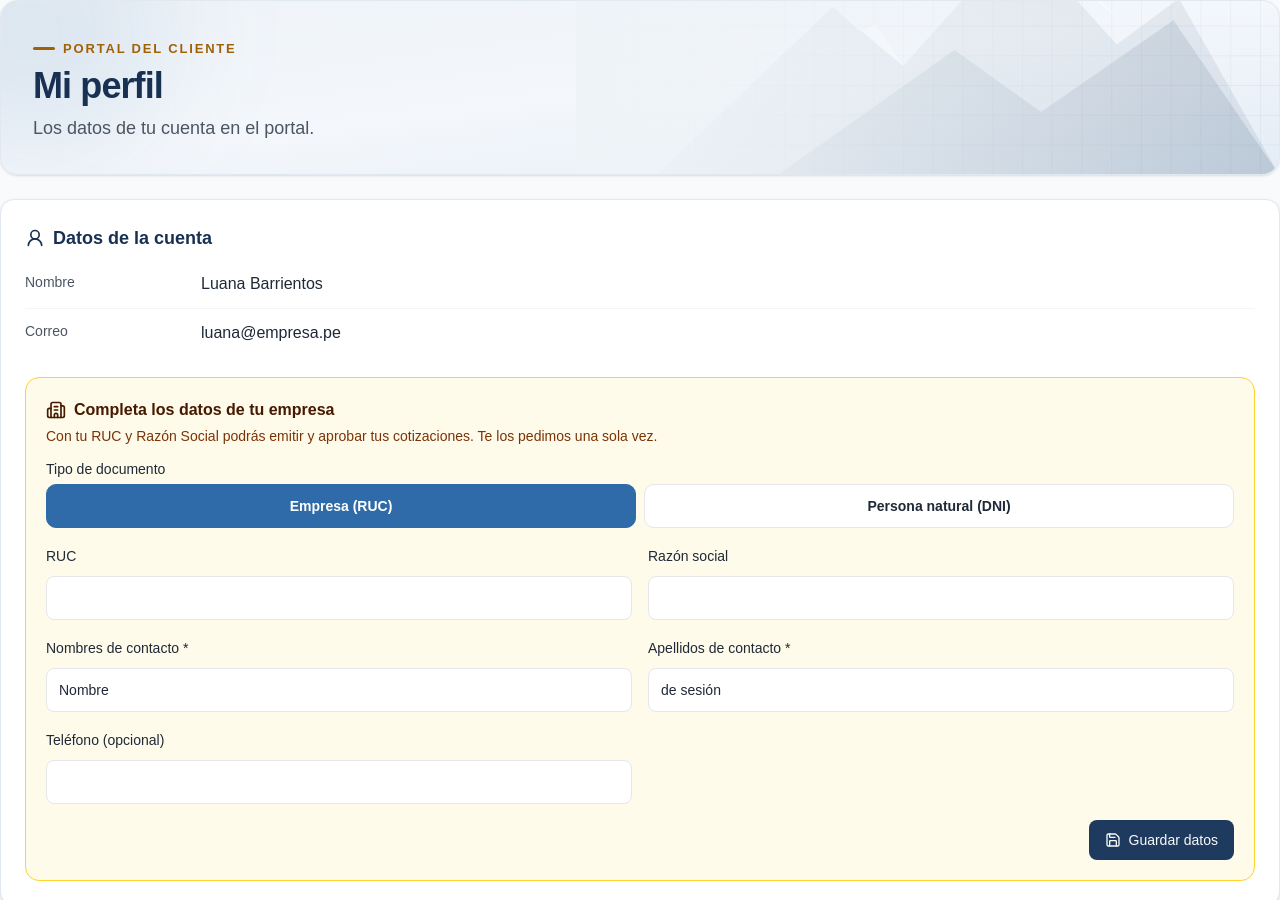
PerfilClientePage (/portal/perfil) › cuenta sin datos de empresa › guarda con el endpoint real, marca el perfil completo y vuelve a leer la cuenta
Expected: the element "Completa los datos de tu empresa" is shown, [25,377,1255,881]
Type "20123456789" into the field labelled "RUC" at (339,598), box [46,576,632,620]
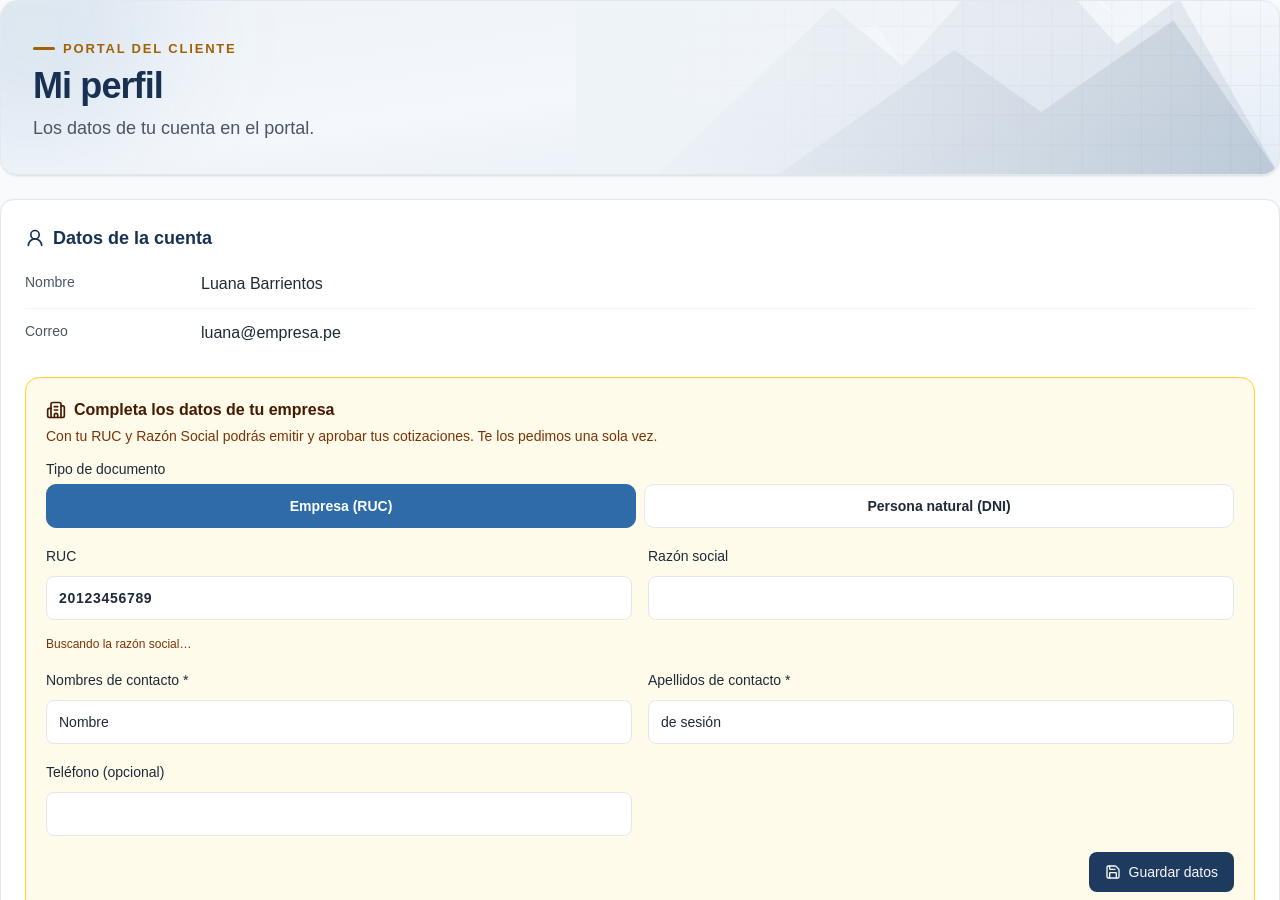
Type "Minera Sol S.A.C." into the field labelled "Razón social" at (941,598), box [648,576,1234,620]
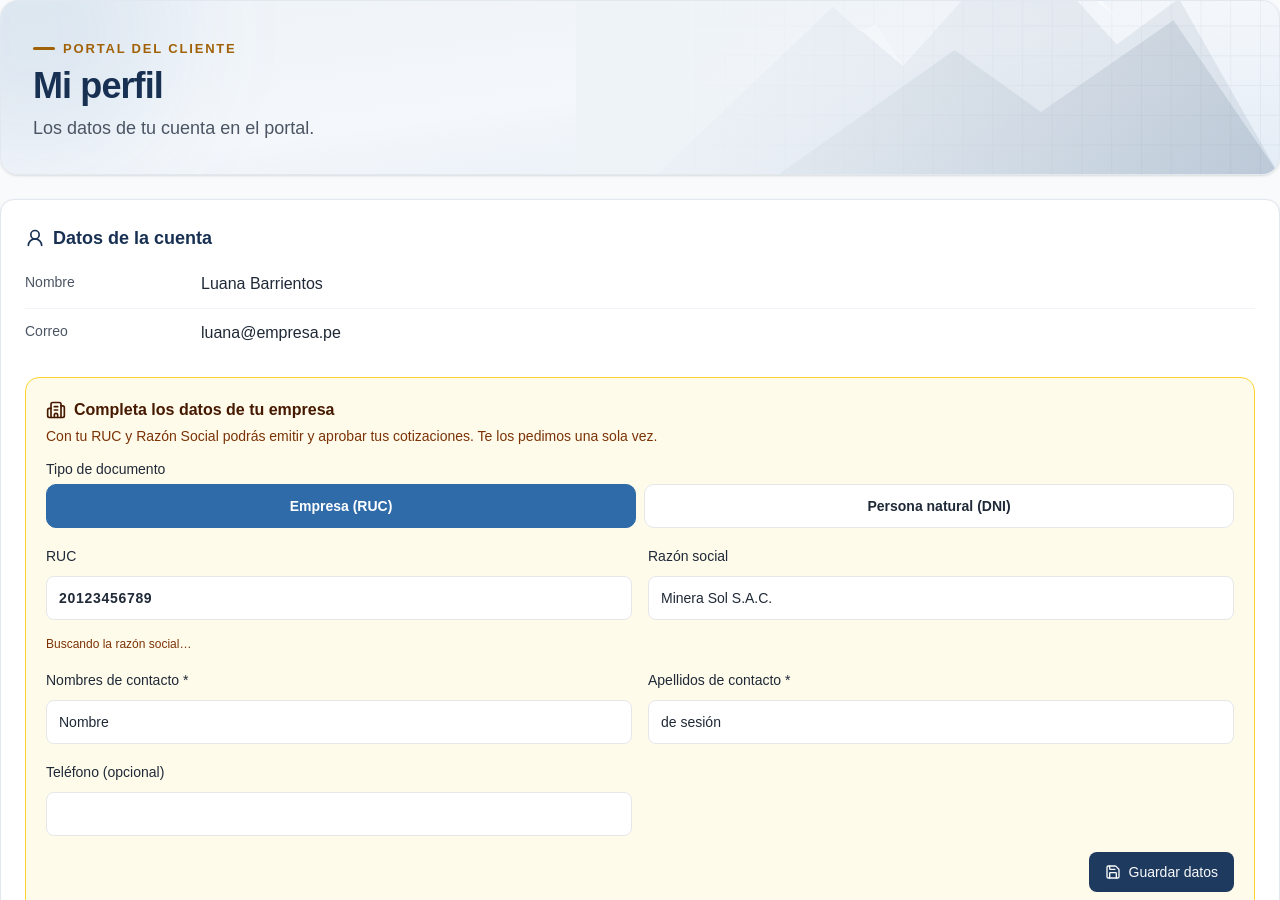
Replace the text in the field labelled "Nombres de contacto *" with "Gina" at (339,722), box [46,700,632,744]
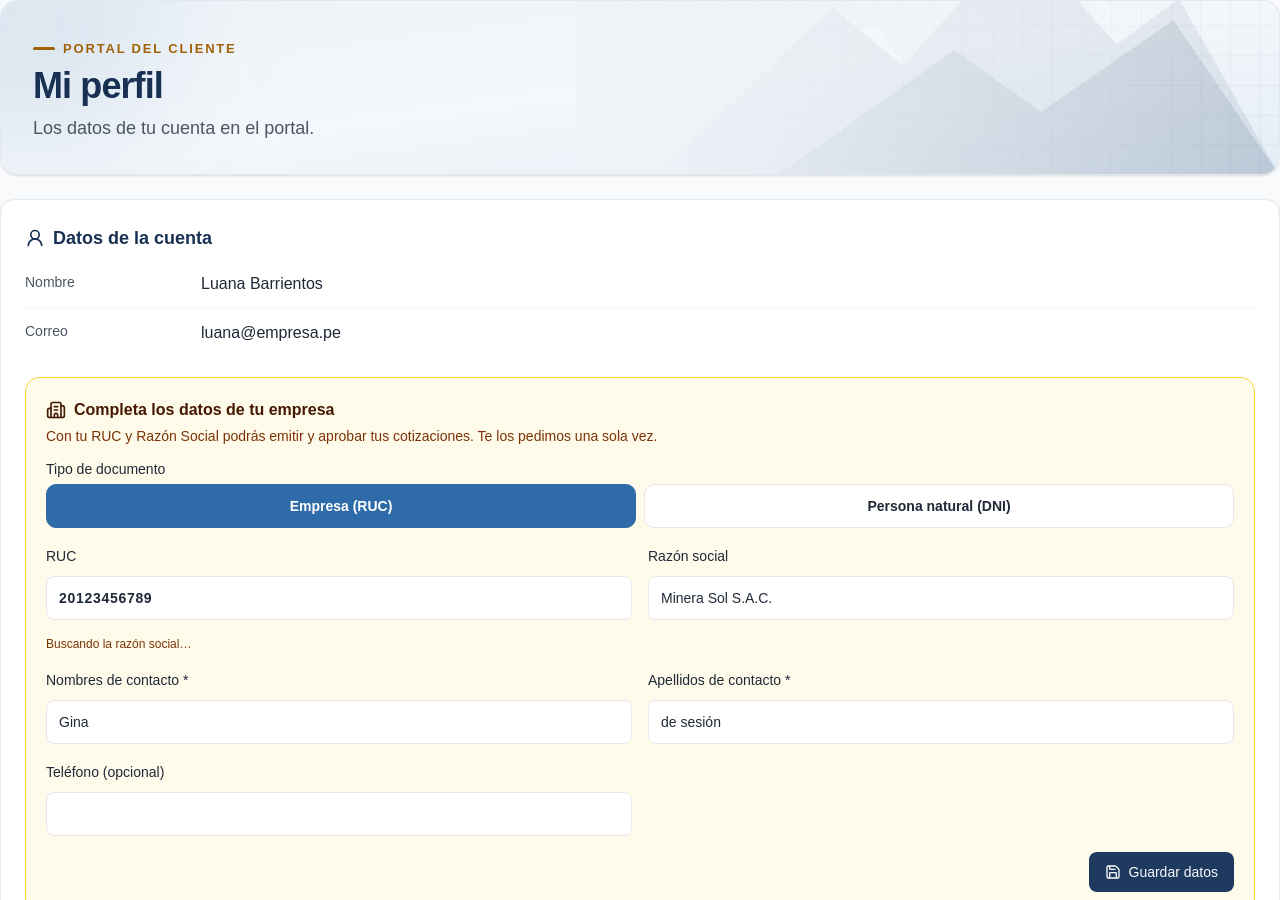
Replace the text in the field labelled "Apellidos de contacto *" with "Paz" at (941,722), box [648,700,1234,744]
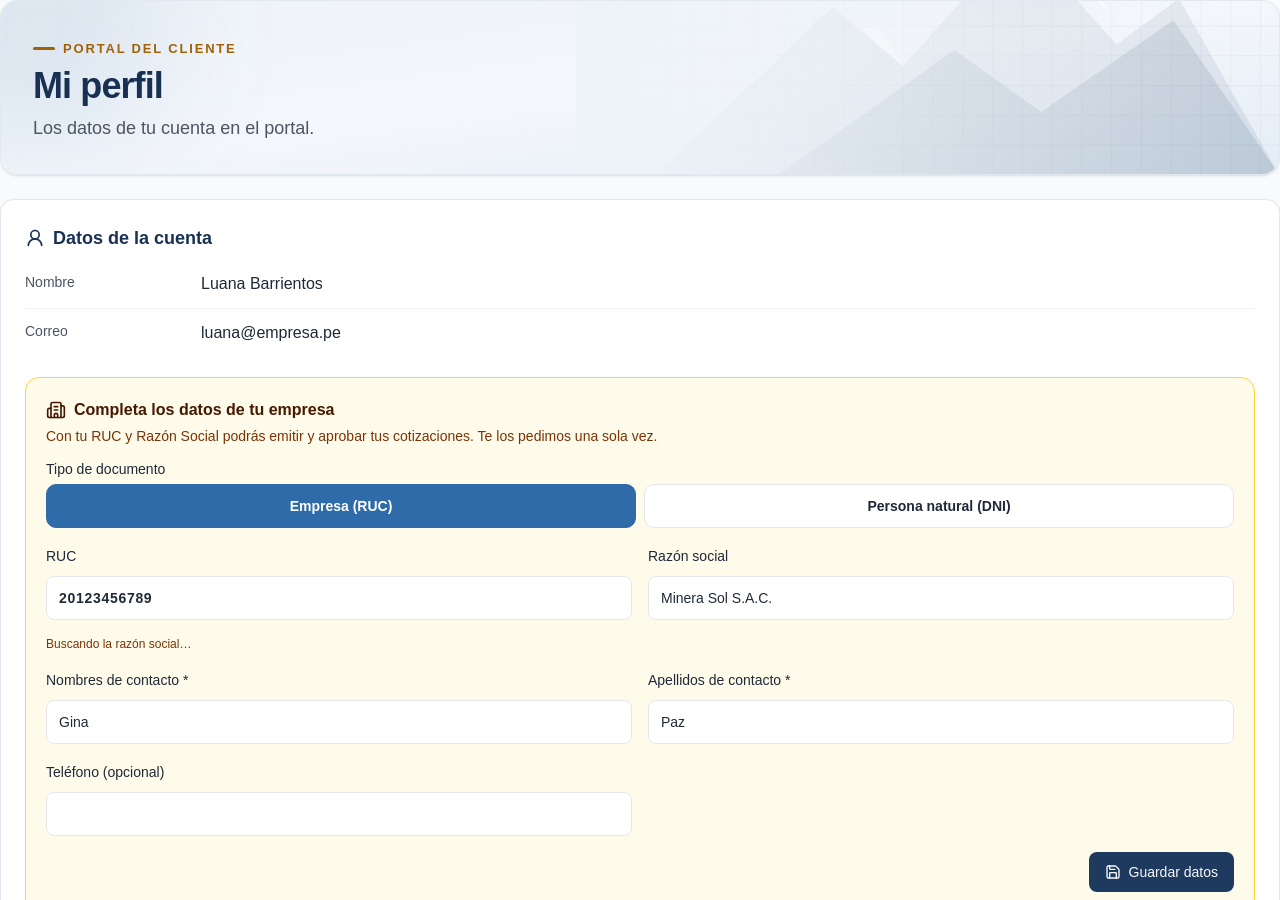
Click the button "Guardar datos" at (1161,872), box [1088,852,1234,892]
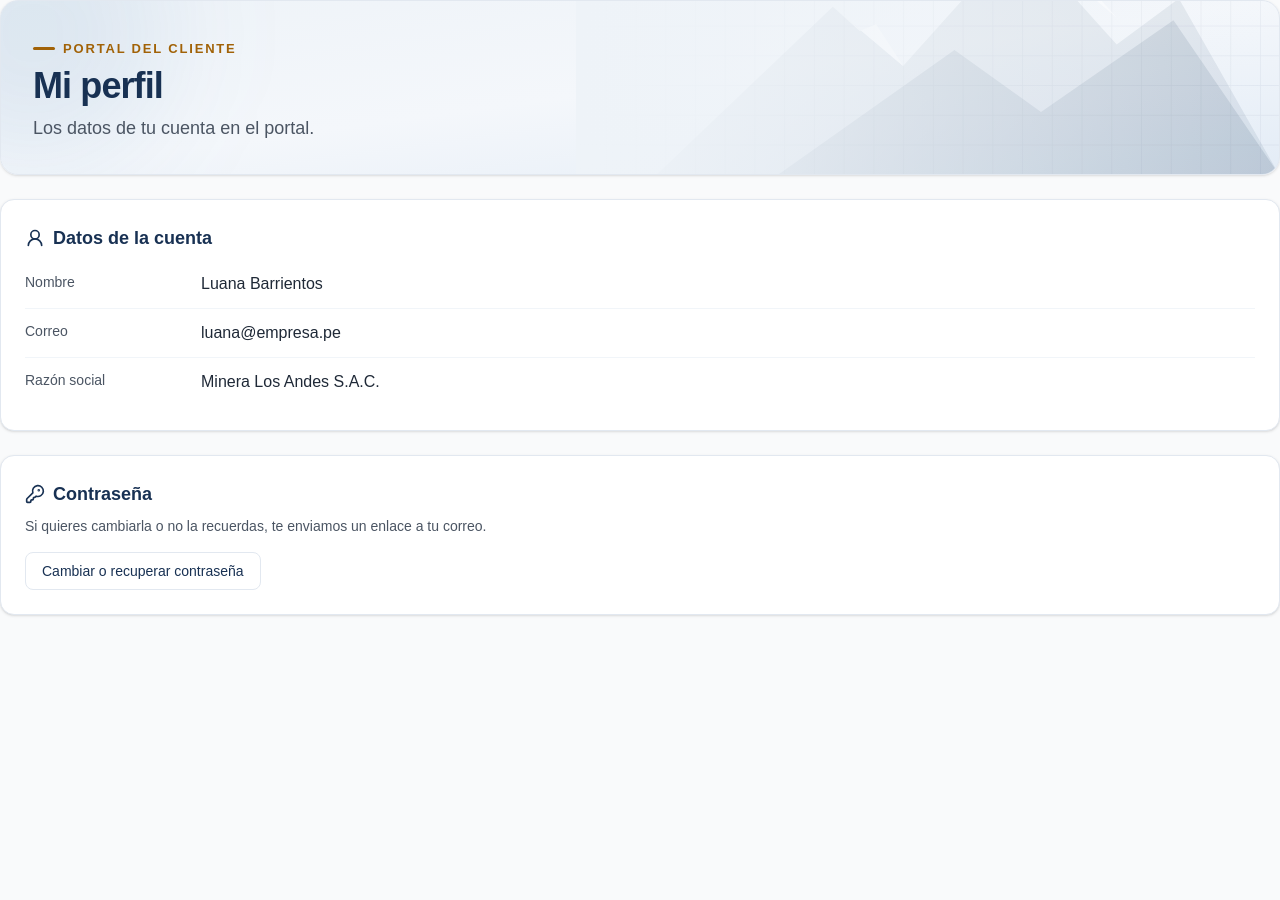
Expected: the text "Razón social" is shown, [25,372,105,388]
Expected: the heading "Completa los datos de tu empresa" is gone
